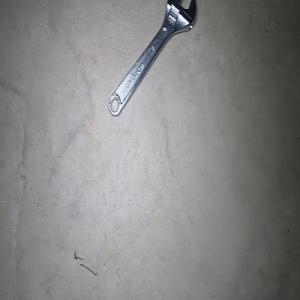Wrench: (108, 0, 196, 116)
